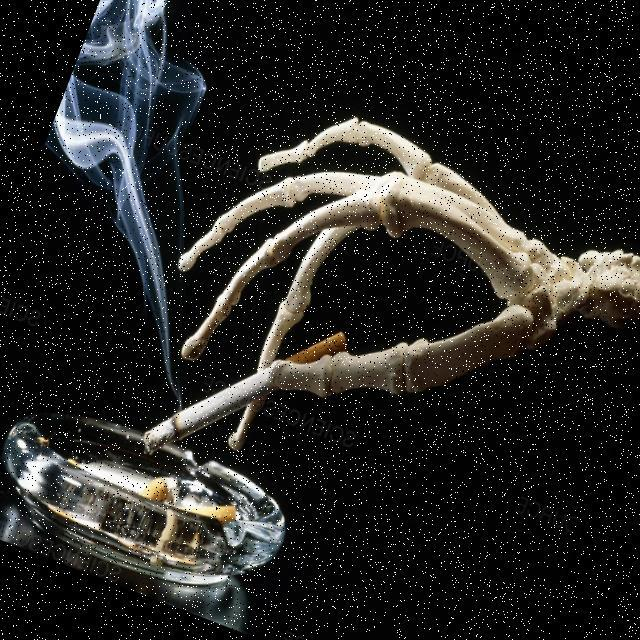cigarette: (133, 285, 340, 504)
